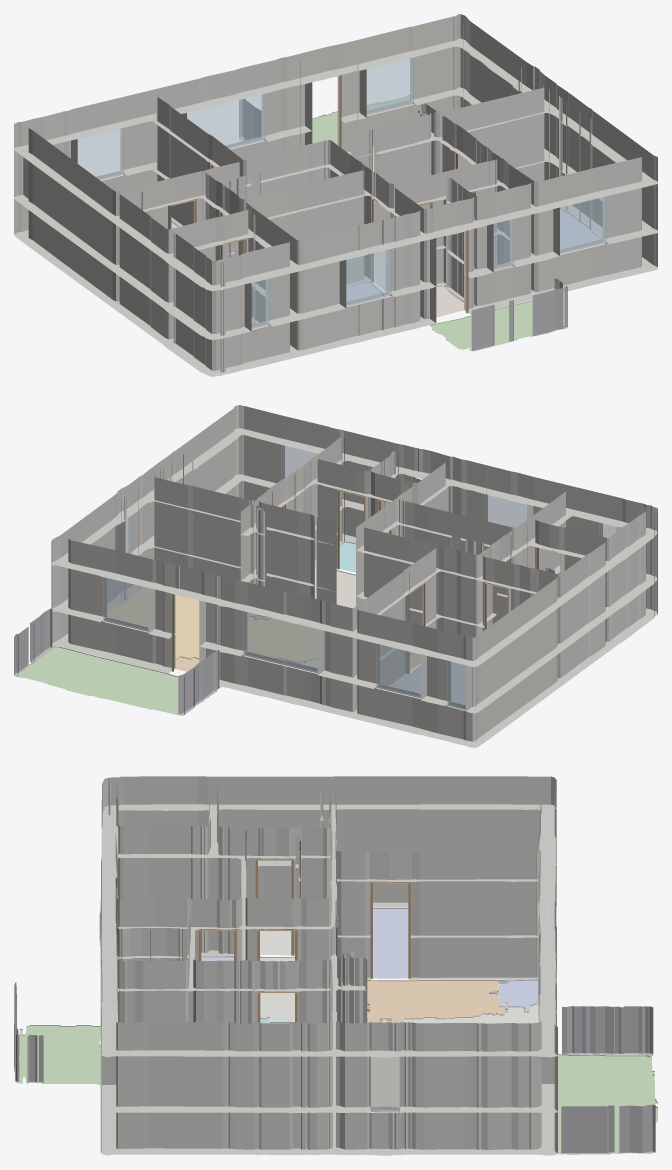
The picture shows the model from 3 angles, top to bottom: view 1: azimuth 30°, elevation 25°; view 2: azimuth 150°, elevation 25°; view 3: azimuth 270°, elevation 25°; orthographic projection. The views are drawn at different scales.
Parts seen in each view (by area): view 1: walls, railings, window_12, window_18, floor_0_Outdoor, window_13, window_17, window_11, window_19, floor_9_Bed_Room, floor_1_Outdoor, window_16 (+1 smaller); view 2: walls, floor_1_Outdoor, floor_3_Kitchen, railings, window_12, window_13, window_11, window_17, floor_12_Bed_Room, window_14, floor_19_Entry, window_18; view 3: walls, railings, floor_1_Outdoor, floor_6_Living_Room, floor_0_Outdoor, floor_12_Bed_Room, window_15, floor_3_Kitchen, floor_23_Undefined, floor_21_Undefined, floor_11_Bed_Room, floor_22_Undefined (+1 smaller).
Part boxes in pixels (box(x1,y1,x2,y2)): walls: box(14, 14, 657, 376); railings: box(239, 99, 567, 351); window_12: box(183, 90, 265, 147); window_18: box(556, 193, 606, 253); floor_0_Outdoor: box(430, 300, 564, 350); window_13: box(366, 57, 413, 114); window_17: box(343, 245, 391, 305); window_11: box(74, 128, 123, 179); window_19: box(490, 216, 513, 269); floor_9_Bed_Room: box(560, 208, 601, 249); floor_1_Outdoor: box(312, 95, 409, 144); window_16: box(251, 279, 269, 327); walls: box(51, 405, 657, 747); floor_1_Outdoor: box(16, 646, 220, 714); floor_3_Kitchen: box(107, 587, 317, 662); railings: box(14, 478, 421, 715); window_12: box(243, 611, 317, 672); window_13: box(103, 574, 151, 631); window_11: box(376, 644, 420, 697); window_17: box(484, 494, 530, 527); floor_12_Bed_Room: box(393, 662, 465, 705); window_14: box(447, 658, 466, 708); floor_19_Entry: box(315, 564, 355, 608); window_18: box(281, 444, 318, 479); walls: box(99, 776, 557, 1155); railings: box(14, 982, 655, 1154); floor_1_Outdoor: box(558, 1054, 657, 1154); floor_6_Living_Room: box(367, 980, 507, 1022); floor_0_Outdoor: box(19, 1025, 100, 1084); floor_12_Bed_Room: box(373, 908, 408, 978); window_15: box(371, 1056, 399, 1110); floor_3_Kitchen: box(371, 1057, 399, 1107); floor_23_Undefined: box(367, 1002, 538, 1023); floor_21_Undefined: box(260, 956, 294, 1021); floor_11_Bed_Room: box(489, 979, 538, 1011); floor_22_Undefined: box(260, 931, 291, 955).
Bounding box in the file's own units: 11.62 × 2.72 × 12.48.
